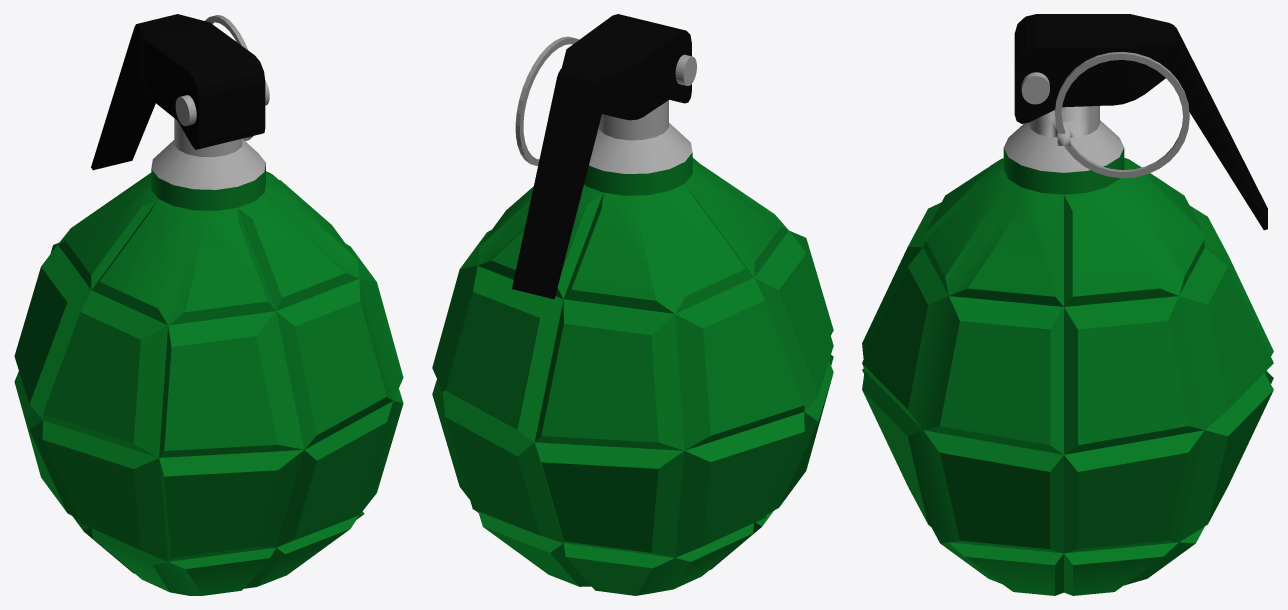
Rendered from Granada.glb.
The picture shows the model from 3 angles, left to right: view 1: azimuth 30°, elevation 25°; view 2: azimuth 150°, elevation 25°; view 3: azimuth 270°, elevation 25°; orthographic projection. The views are drawn at different scales.
Visible parts, largest first — view 1: Granada, Cube.001; view 2: Granada, Cube.001, Argolla; view 3: Granada, Cube.001, Argolla.
Part boxes in pixels (x1,y1,x2,y2): Granada: (14,81,403,595); Cube.001: (91,14,265,170); Granada: (432,54,833,595); Cube.001: (512,14,691,298); Argolla: (515,36,579,165); Granada: (862,72,1273,595); Cube.001: (1014,14,1267,230); Argolla: (1055,51,1189,178).
Bounding box in the file's own units: 3.62 × 5.14 × 3.58.
